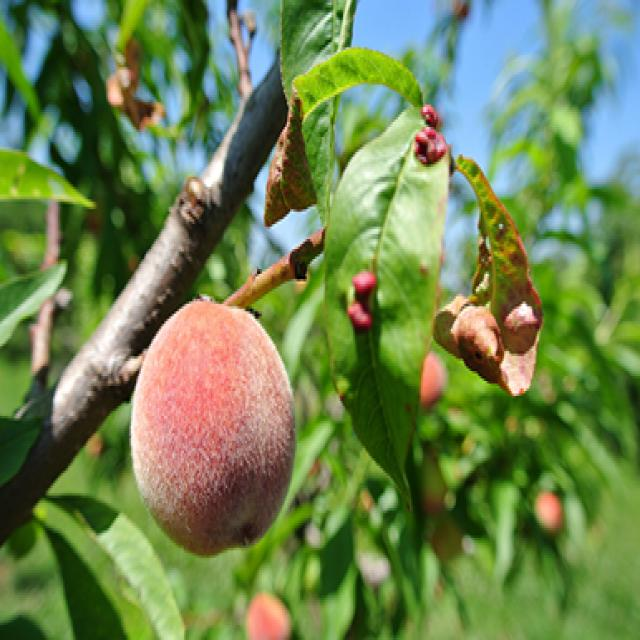Peach: (130, 0, 450, 555)
